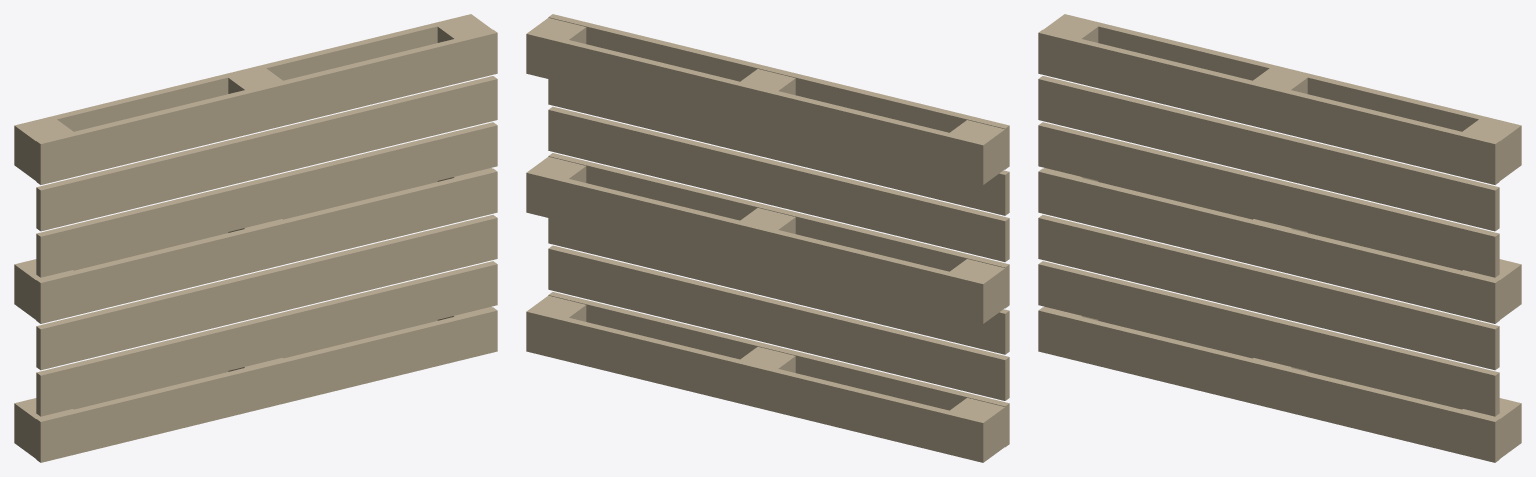
Rendered from palletnormalizadonuevo.glb.
3 renders of one model, left to right at view 1: azimuth 30°, elevation 25°; view 2: azimuth 150°, elevation 25°; view 3: azimuth 330°, elevation 25°, orthographic.
Visible parts, largest first — view 1: world; view 2: world; view 3: world.
Part boxes in pixels (x1,y1,x2,y2): world: [14, 14, 497, 462]; world: [526, 14, 1009, 462]; world: [1038, 14, 1521, 462].
Size of the model in its own units: 1.2 by 0.8 by 0.12.
